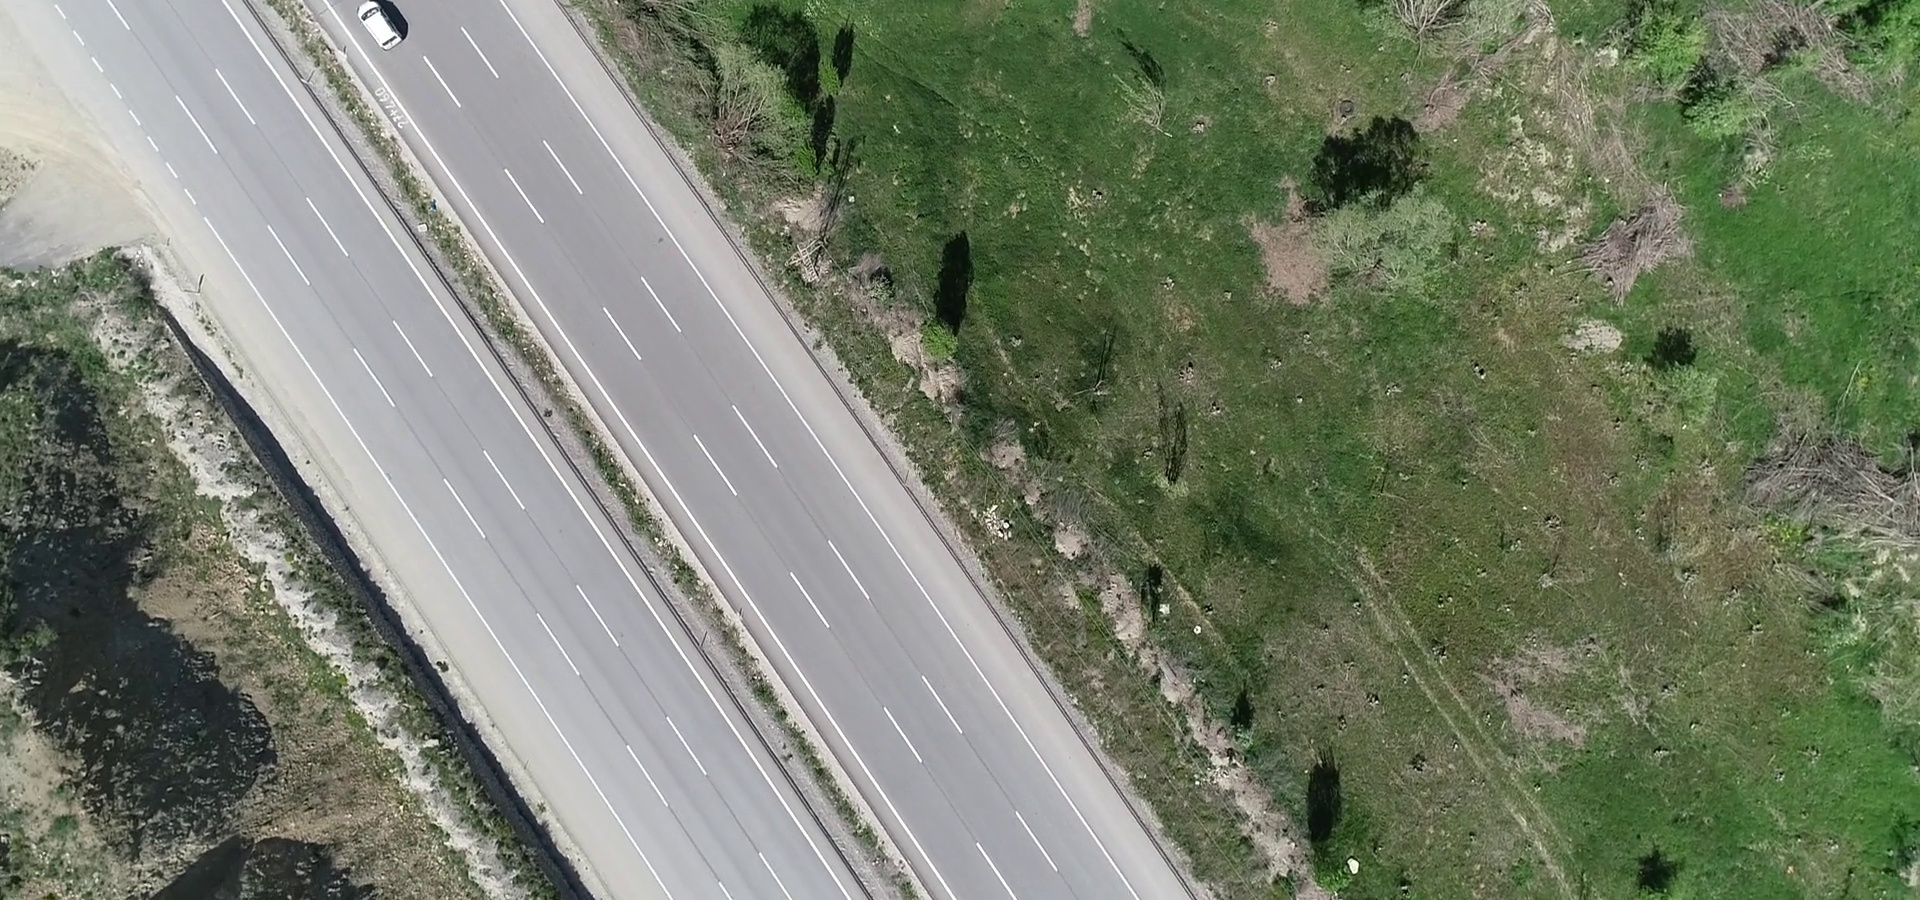arac: (350, 1, 411, 54)
